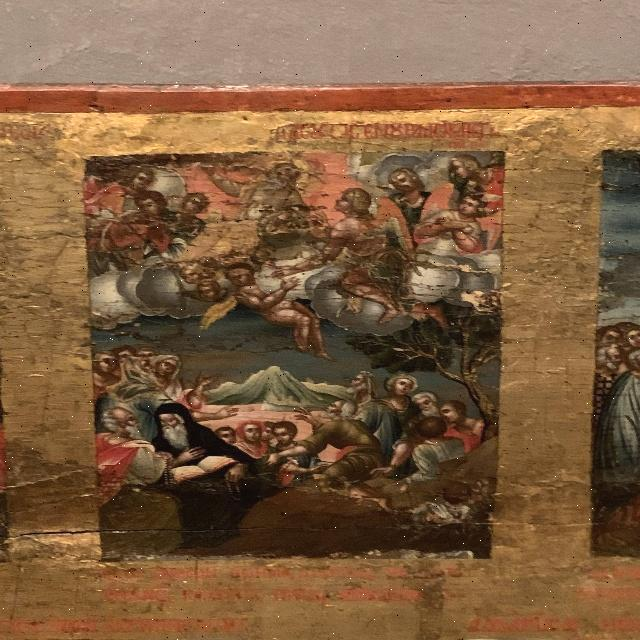angel: (280, 175, 447, 328), (203, 263, 329, 363), (418, 177, 502, 256)
father: (194, 155, 316, 250)
wing: (365, 195, 414, 257), (200, 292, 240, 333), (421, 188, 459, 219), (478, 206, 503, 250)
